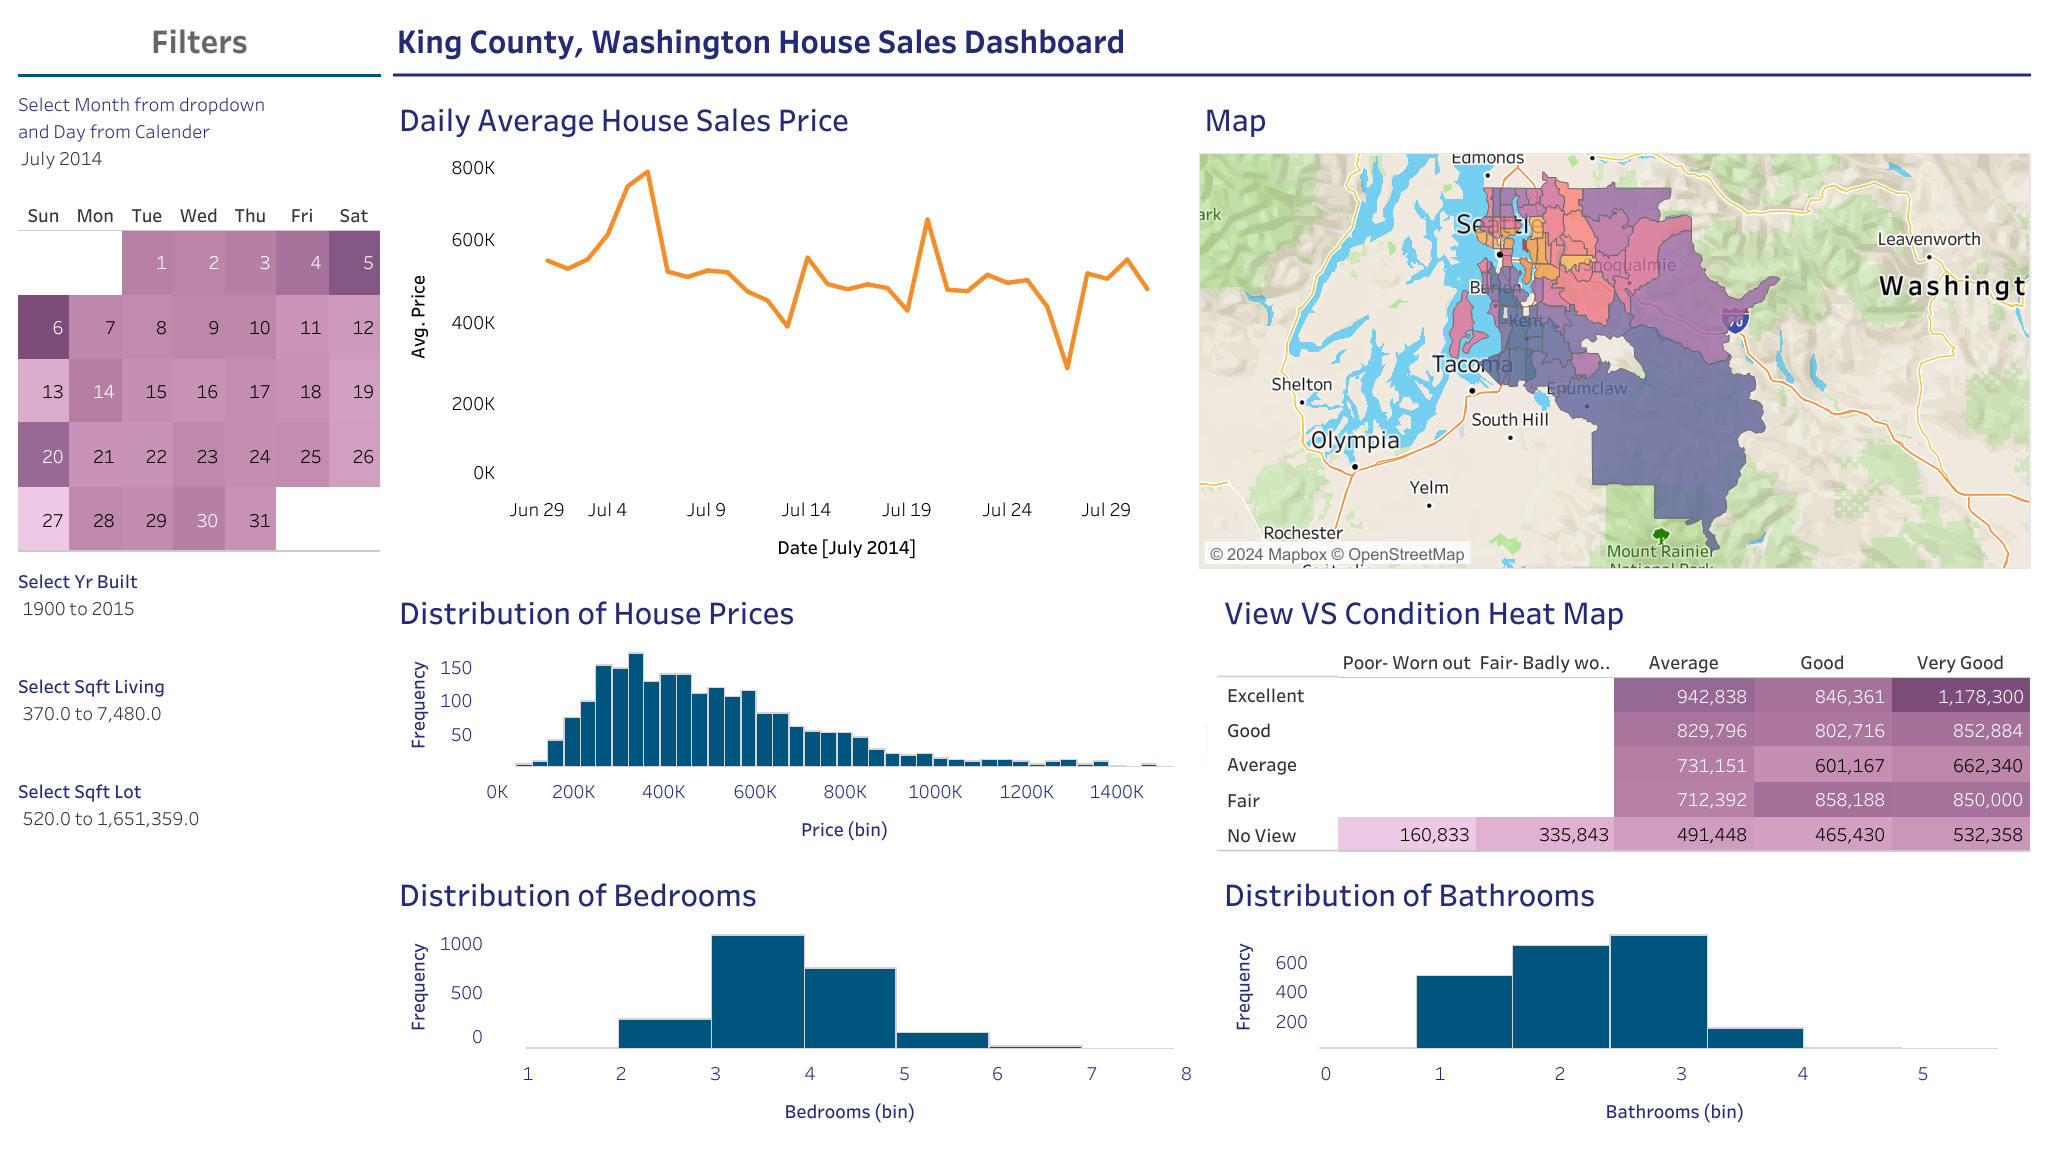

The page's visual inventory and layout, read from the dashboard file:
{"tool":"tableau","page":{"name":"Dashboard 1","canvas":[1000,1000],"units":"permille","ordinal":0},"visuals":[{"type":"text","box":[4.2,9.1,183.8,59.2]},{"type":"text","box":[188.1,9.1,807.7,59.2]},{"type":"blank","box":[4.2,68.3,183.8,11.4]},{"type":"blank","box":[188.1,68.3,807.7,11.4]},{"type":"filter","title":"Worksheet Calender","param":"[federated.1d5owak1534ewr15hmhi51ph2xjf].[my:date:ok]","box":[4.2,79.7,183.8,108.2]},{"type":"worksheet","title":"Line Chart","mark":"Automatic","rows":["price"],"cols":["date"],"box":[188.1,79.7,403.3,420.3]},{"type":"worksheet","title":"Heat Map","mark":"Automatic","box":[591.4,79.7,404.4,420.3]},{"type":"worksheet","title":"Worksheet Calender","mark":"Square","rows":["date"],"cols":["date"],"box":[4.2,187.9,183.8,277.9]},{"type":"filter","title":"Worksheet Calender","param":"[federated.1d5owak1534ewr15hmhi51ph2xjf].[none:yr_built:qk]","box":[4.2,465.8,183.8,67.2]},{"type":"worksheet","title":"Histrogram House Price","mark":"Automatic","rows":["price"],"cols":["Price (bin)"],"box":[188.1,500,403.8,245.4]},{"type":"worksheet","title":"Heat_Map","mark":"Square","rows":["view"],"cols":["condition"],"box":[591.9,500,403.9,245.4]},{"type":"filter","title":"Worksheet Calender","param":"[federated.1d5owak1534ewr15hmhi51ph2xjf].[none:sqft_living:qk]","box":[4.2,533,183.8,67.2]},{"type":"filter","title":"Worksheet Calender","param":"[federated.1d5owak1534ewr15hmhi51ph2xjf].[none:sqft_lot:qk]","box":[4.2,600.2,183.8,67.2]},{"type":"worksheet","title":"Histo_Bedrooms","mark":"Automatic","rows":["bedrooms"],"cols":["Bedrooms (bin)"],"box":[188.1,745.4,403.8,245.5]},{"type":"worksheet","title":"Histo_Bathrooms","mark":"Automatic","rows":["bathrooms"],"cols":["Bathrooms (bin)"],"box":[591.9,745.4,403.9,245.5]}]}

Visuals, with their boxes on the dashboard's canvas, which has no fixed pixel size, in thousandths of its width and height (x1, y1, x2, y2). These are canvas units, not pixel positions in the 2048x1151 screenshot, which may show the page scaled, cropped or inside an application window:
text: <box>4,9,188,68</box>
text: <box>188,9,996,68</box>
blank: <box>4,68,188,80</box>
blank: <box>188,68,996,80</box>
"Worksheet Calender" filter: <box>4,80,188,188</box>
"Line Chart" worksheet: <box>188,80,591,500</box>
"Heat Map" worksheet: <box>591,80,996,500</box>
"Worksheet Calender" worksheet (Square marks): <box>4,188,188,466</box>
"Worksheet Calender" filter: <box>4,466,188,533</box>
"Histrogram House Price" worksheet: <box>188,500,592,745</box>
"Heat_Map" worksheet (Square marks): <box>592,500,996,745</box>
"Worksheet Calender" filter: <box>4,533,188,600</box>
"Worksheet Calender" filter: <box>4,600,188,667</box>
"Histo_Bedrooms" worksheet: <box>188,745,592,991</box>
"Histo_Bathrooms" worksheet: <box>592,745,996,991</box>
